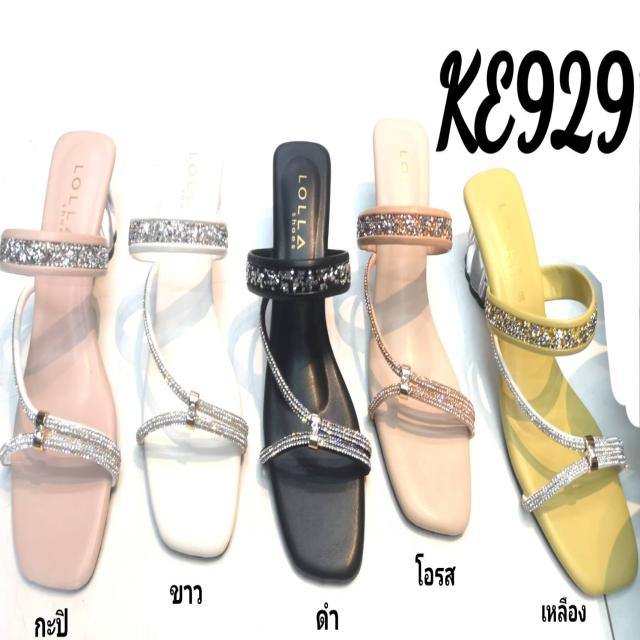black: (252, 142, 374, 573)
kapi: (14, 132, 118, 595)
orot: (359, 117, 472, 538)
white: (139, 141, 247, 564)
yellow: (458, 166, 638, 594)
